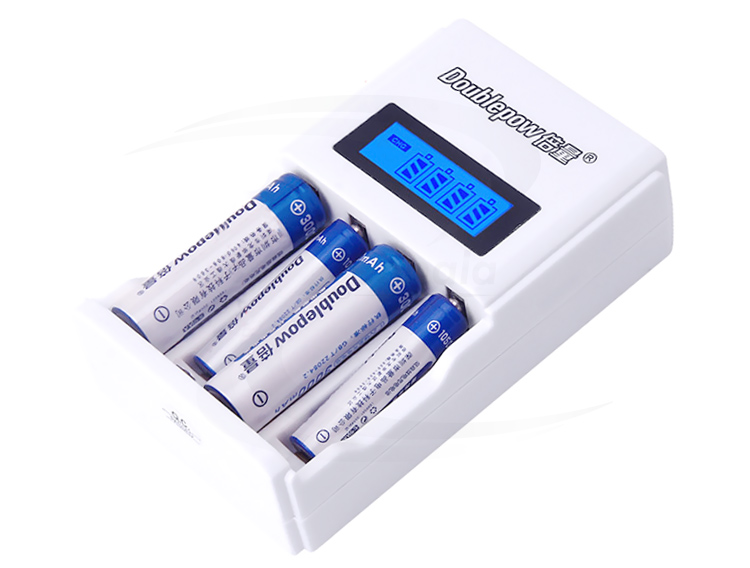Battery: (204, 244, 428, 420), (112, 172, 331, 346)
